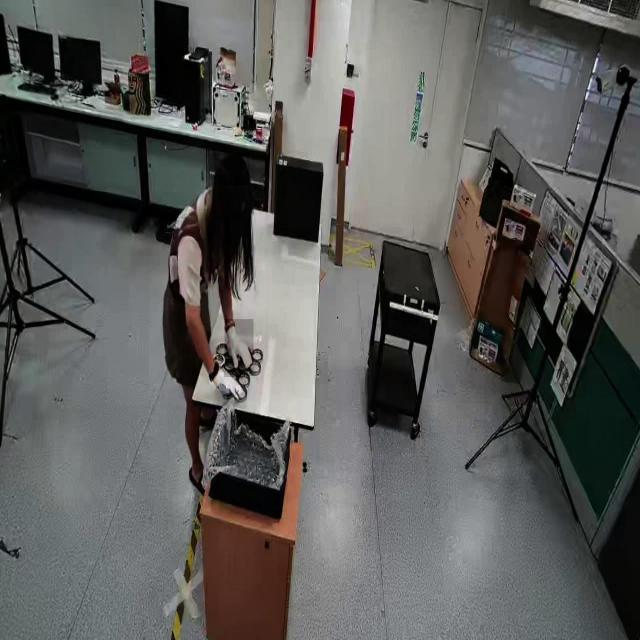gloves: (208, 360, 244, 423), (224, 319, 254, 377)
